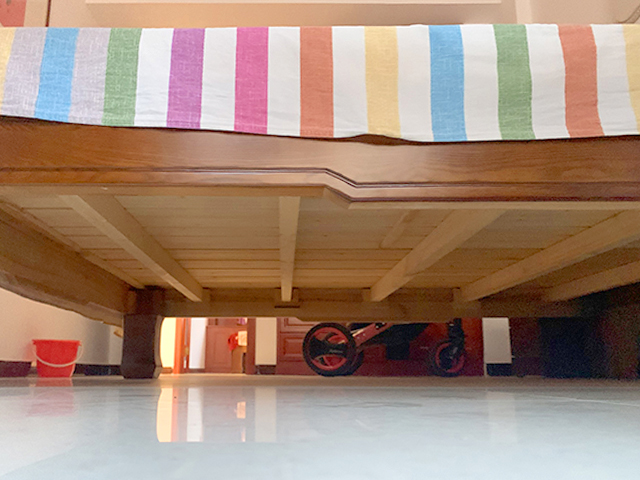bed: (1, 22, 640, 380)
